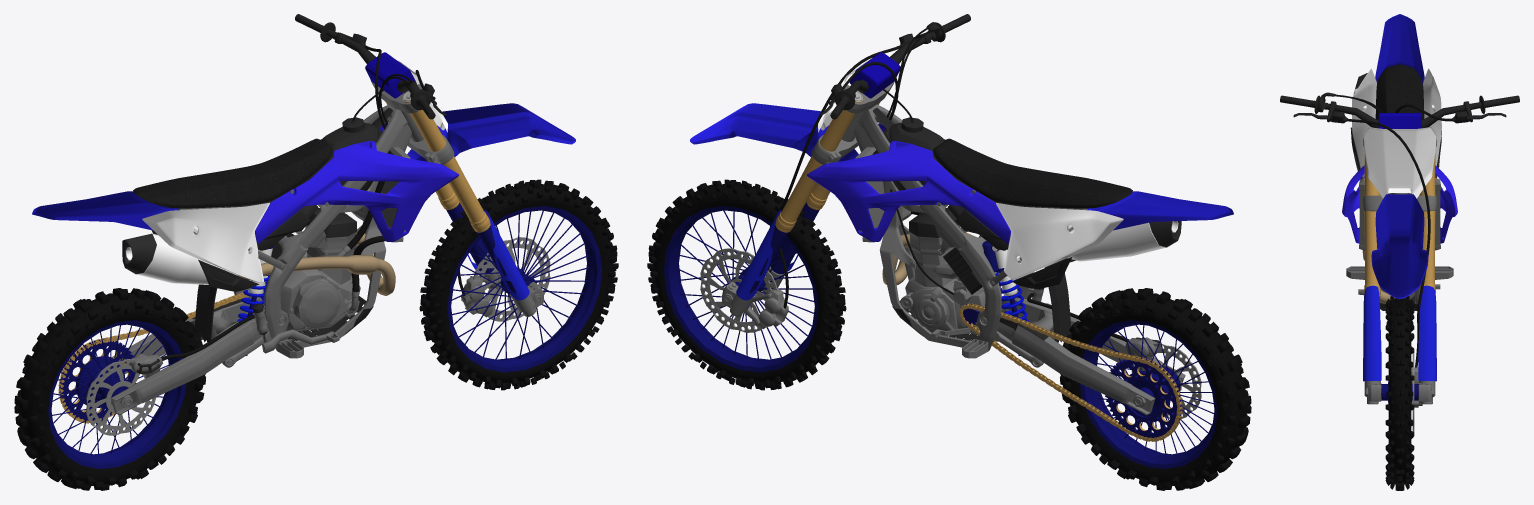
File: bike.glb
3 renders of one model, left to right at view 1: azimuth 30°, elevation 25°; view 2: azimuth 150°, elevation 25°; view 3: azimuth 270°, elevation 25°, orthographic. The views are drawn at different scales.
Parts seen in each view (by area): view 1: REAR TIRE, FRONT TIRE, REAR RIM, REAR RIM.001, FUEL CAP.003, Object_40, FUEL CAP.005, Object_42, FRAME, EXHAUST, SWINGARM, MOTOR (+17 smaller); view 2: REAR TIRE, FRONT TIRE, REAR RIM, REAR RIM.001, FUEL CAP.003, FRAME, Object_40, FUEL CAP.005, Object_42, SWINGARM, Circle.005, EXHAUST (+18 smaller); view 3: Object_40, Object_42, FRONT TIRE, FORK LOWERS.001, FORK UPPERS, FUEL CAP.005, FUEL CAP.003, BezierCurve.008, HANDLEBARS, RADIATOR, HANDLEBARS.001, FORK LOWERS (+5 smaller).
Boxes of the visible parts, x1=… form: REAR TIRE: x1=14, y1=288, x2=205, y2=490; FRONT TIRE: x1=419, y1=179, x2=618, y2=390; REAR RIM: x1=48, y1=320, x2=185, y2=468; REAR RIM.001: x1=447, y1=206, x2=602, y2=372; FUEL CAP.003: x1=255, y1=123, x2=458, y2=244; Object_40: x1=32, y1=103, x2=575, y2=230; FUEL CAP.005: x1=133, y1=138, x2=332, y2=208; Object_42: x1=142, y1=60, x2=447, y2=282; FRAME: x1=233, y1=104, x2=411, y2=351; EXHAUST: x1=122, y1=233, x2=237, y2=284; SWINGARM: x1=110, y1=296, x2=268, y2=415; MOTOR: x1=263, y1=225, x2=360, y2=331; REAR TIRE: x1=1060, y1=288, x2=1251, y2=490; FRONT TIRE: x1=647, y1=179, x2=846, y2=390; REAR RIM: x1=1080, y1=320, x2=1217, y2=468; REAR RIM.001: x1=663, y1=206, x2=818, y2=372; FUEL CAP.003: x1=807, y1=123, x2=1010, y2=244; FRAME: x1=854, y1=104, x2=1033, y2=351; Object_40: x1=690, y1=103, x2=1233, y2=230; FUEL CAP.005: x1=933, y1=138, x2=1132, y2=208; Object_42: x1=818, y1=60, x2=1123, y2=280; SWINGARM: x1=997, y1=297, x2=1185, y2=415; Circle.005: x1=959, y1=303, x2=1182, y2=441; EXHAUST: x1=1067, y1=221, x2=1181, y2=261; Object_40: x1=1371, y1=14, x2=1428, y2=298; Object_42: x1=1352, y1=68, x2=1441, y2=198; FRONT TIRE: x1=1385, y1=296, x2=1414, y2=490; FORK LOWERS.001: x1=1363, y1=285, x2=1436, y2=381; FORK UPPERS: x1=1364, y1=154, x2=1435, y2=297; FUEL CAP.005: x1=1375, y1=64, x2=1424, y2=119; FUEL CAP.003: x1=1342, y1=165, x2=1457, y2=243; BezierCurve.008: x1=1347, y1=119, x2=1430, y2=367; HANDLEBARS: x1=1326, y1=102, x2=1481, y2=128; RADIATOR: x1=1359, y1=178, x2=1440, y2=250; HANDLEBARS.001: x1=1293, y1=101, x2=1506, y2=123; FORK LOWERS: x1=1364, y1=297, x2=1435, y2=404.
Size of the model in its own units: 2.48 by 1.46 by 0.9714.
Materials: 19 (1 with a texture image).
